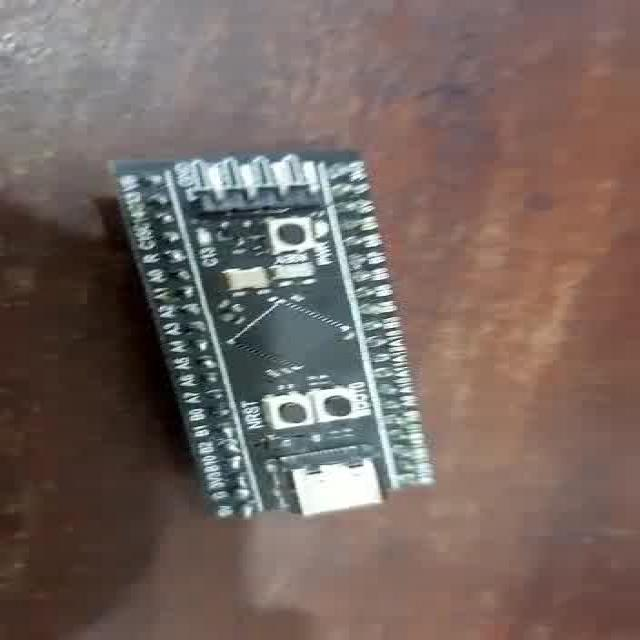stm32: (86, 144, 445, 526)
